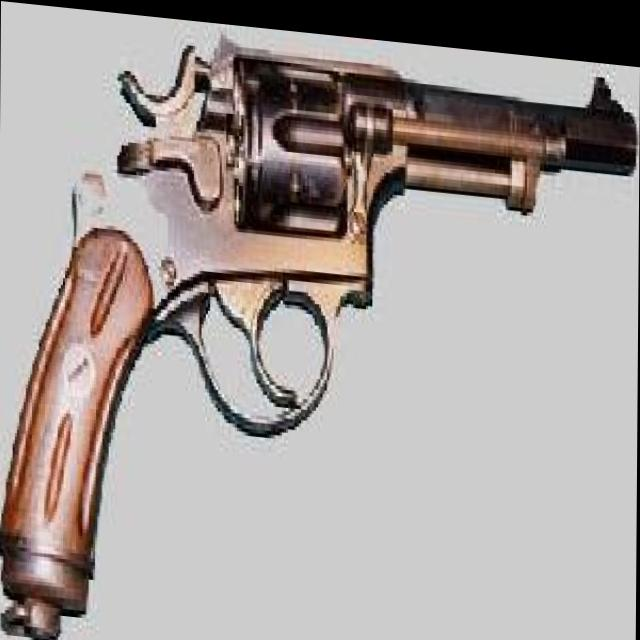handgun: (0, 7, 629, 640)
